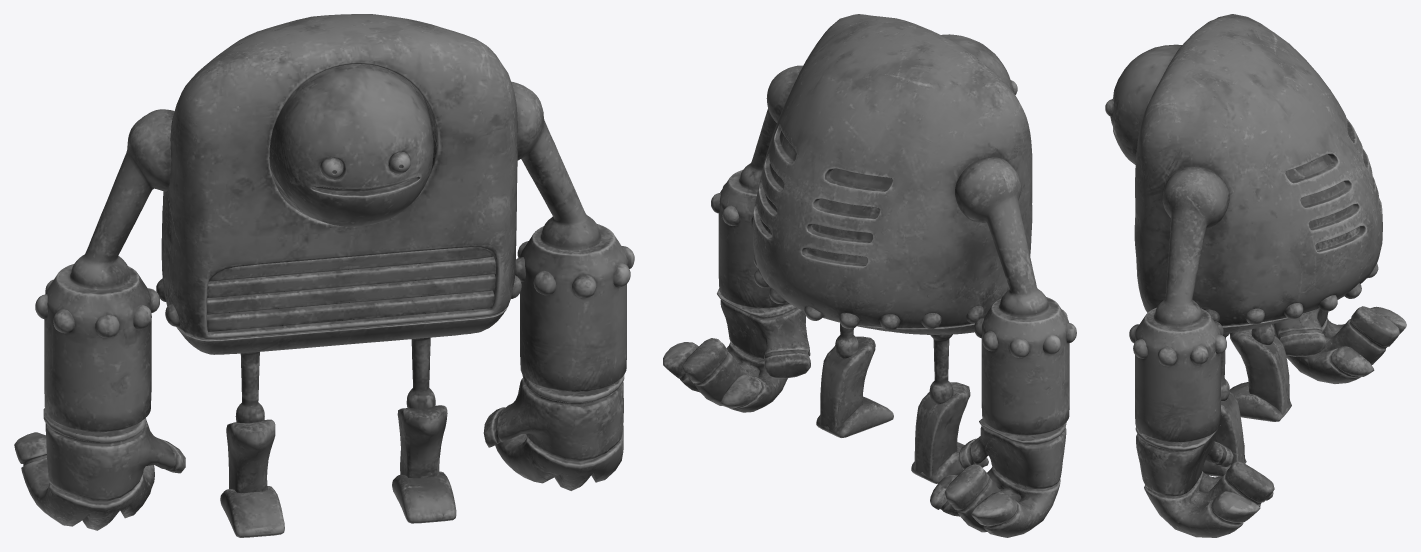
Rendered from robot-transformed.glb.
3 renders of one model, left to right at view 1: azimuth 30°, elevation 25°; view 2: azimuth 150°, elevation 25°; view 3: azimuth 270°, elevation 25°, orthographic. The views are drawn at different scales.
Visible parts, largest first — view 1: CHARACTER__0; view 2: CHARACTER__0; view 3: CHARACTER__0.
Boxes of the visible parts, x1,y1,x2,y2 form: CHARACTER__0: (14, 14, 634, 537); CHARACTER__0: (663, 14, 1076, 537); CHARACTER__0: (1105, 14, 1406, 537).
Bounding box in the file's own units: 6.85 × 6.21 × 4.19.
Materials: 1 (1 with a texture image).
